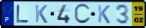3: (115, 4, 131, 25)
4: (57, 4, 72, 24)
C: (73, 3, 92, 26)
K: (34, 4, 48, 24), (97, 5, 111, 25)
L: (16, 5, 31, 24)
